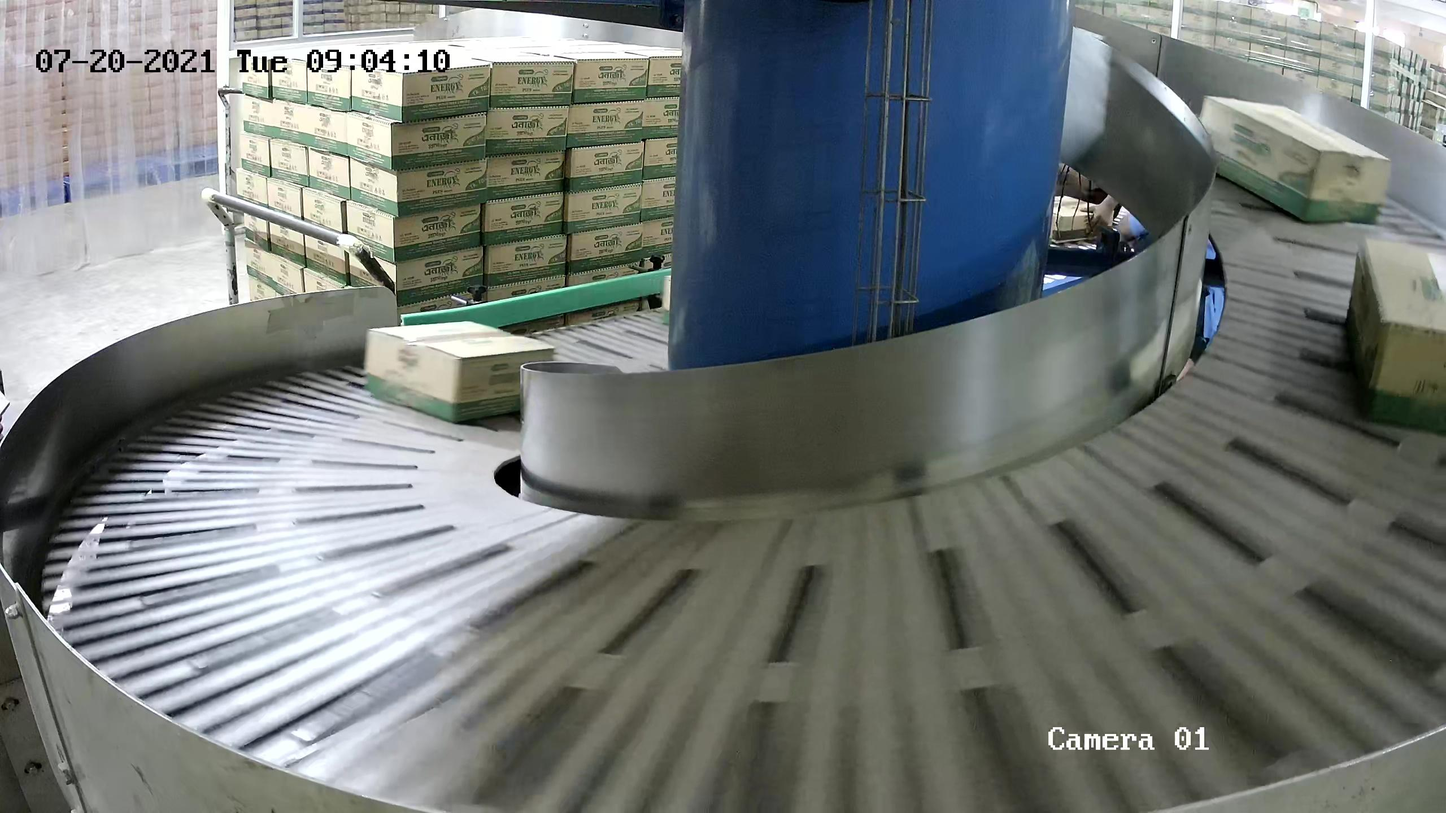Box: (1188, 94, 1392, 226), (1341, 236, 1446, 438), (362, 320, 557, 426)
